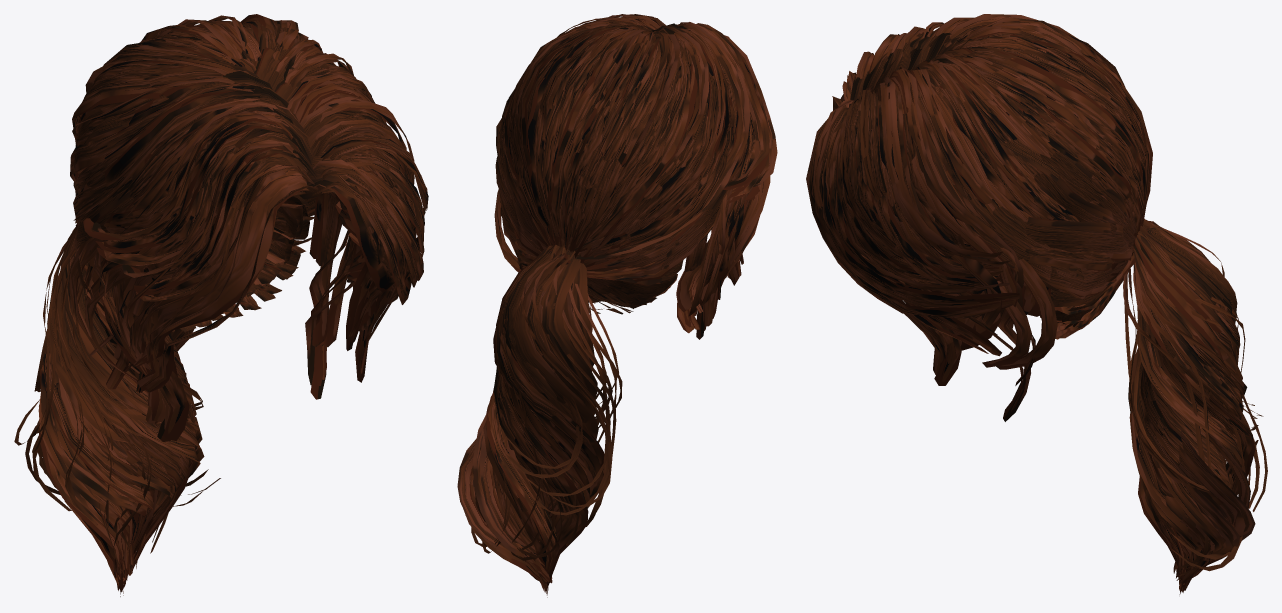
Rendered from female_hair.glb.
The picture shows the model from 3 angles, left to right: view 1: azimuth 30°, elevation 25°; view 2: azimuth 150°, elevation 25°; view 3: azimuth 270°, elevation 25°; orthographic projection. The views are drawn at different scales.
Visible parts, largest first — view 1: hair; view 2: hair; view 3: hair.
Boxes of the visible parts, x1=… form: hair: x1=14, y1=14, x2=428, y2=596; hair: x1=457, y1=14, x2=777, y2=597; hair: x1=806, y1=14, x2=1267, y2=594.
Bounding box in the file's own units: 0.209 × 0.4248 × 0.3112.
1 material, 1 textured.
